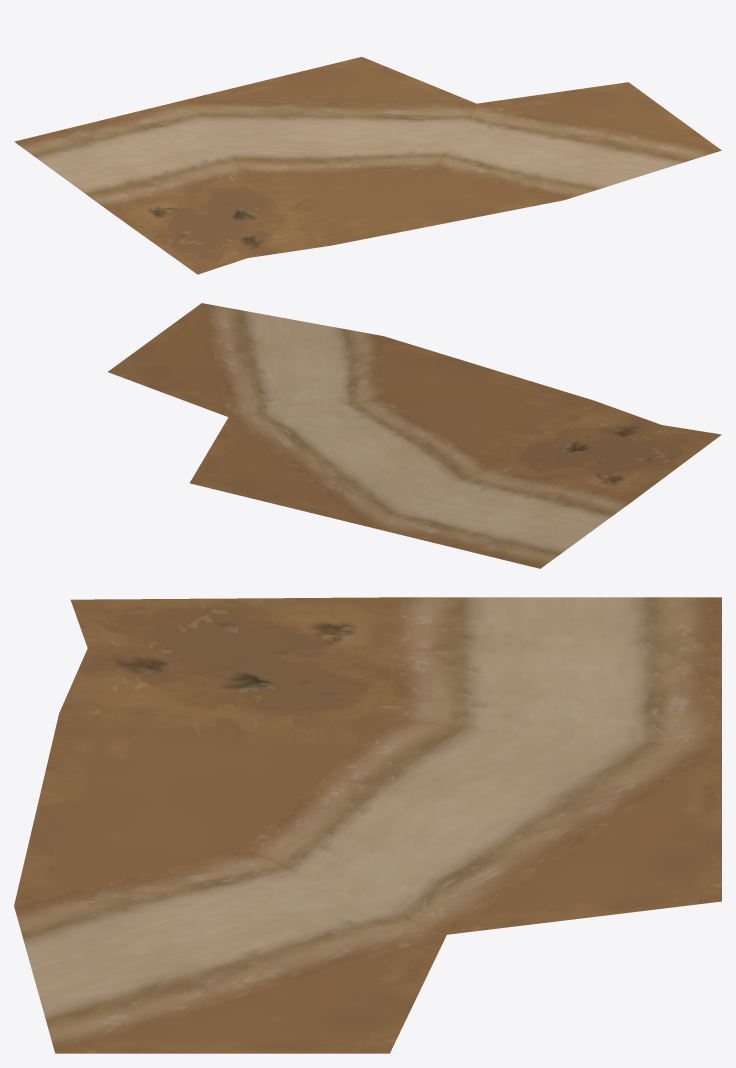
3 renders of one model, top to bottom at view 1: azimuth 30°, elevation 25°; view 2: azimuth 150°, elevation 25°; view 3: azimuth 270°, elevation 25°, orthographic. The views are drawn at different scales.
Parts seen in each view (by area): view 1: Object23; view 2: Object23; view 3: Object23.
Part boxes in pixels (x1=…): Object23: x1=14, y1=57, x2=721, y2=274; Object23: x1=108, y1=303, x2=721, y2=568; Object23: x1=14, y1=597, x2=721, y2=1053.
Size of the model in its own units: 6897 by 9.51 by 4524.
Materials: 3 (3 with a texture image).
